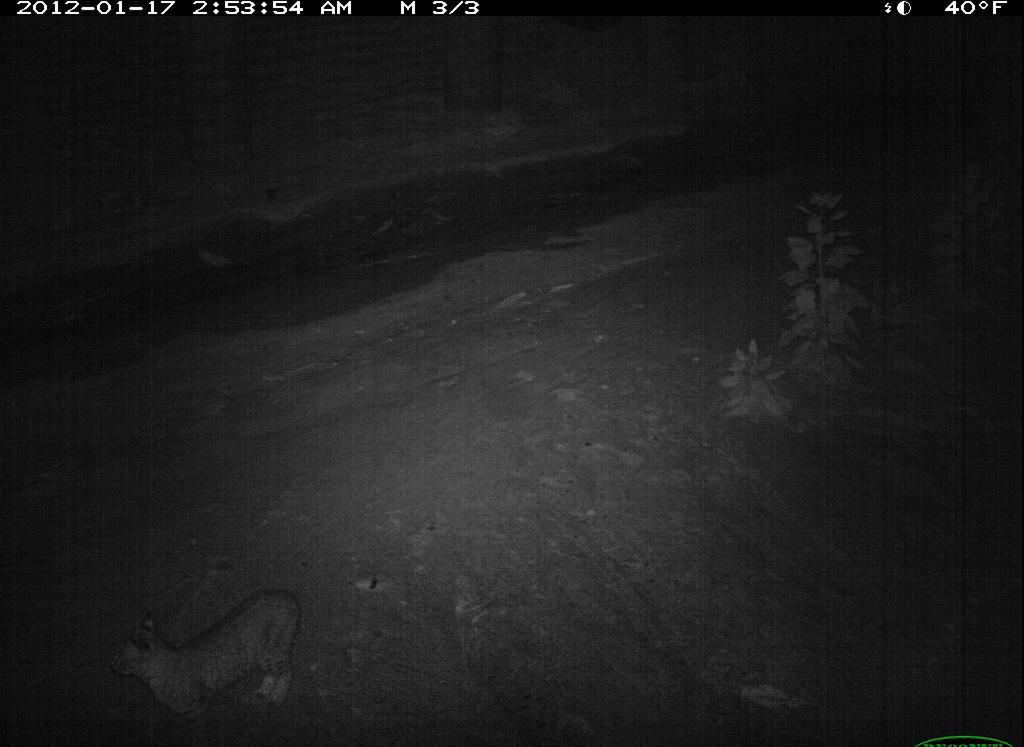bobcat: (102, 577, 309, 747)
